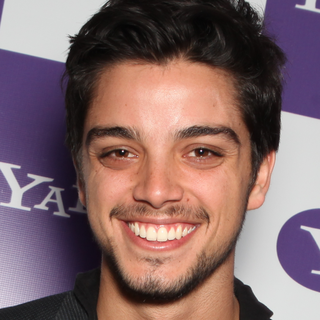eye: (172, 142, 232, 167), (94, 142, 144, 166)
